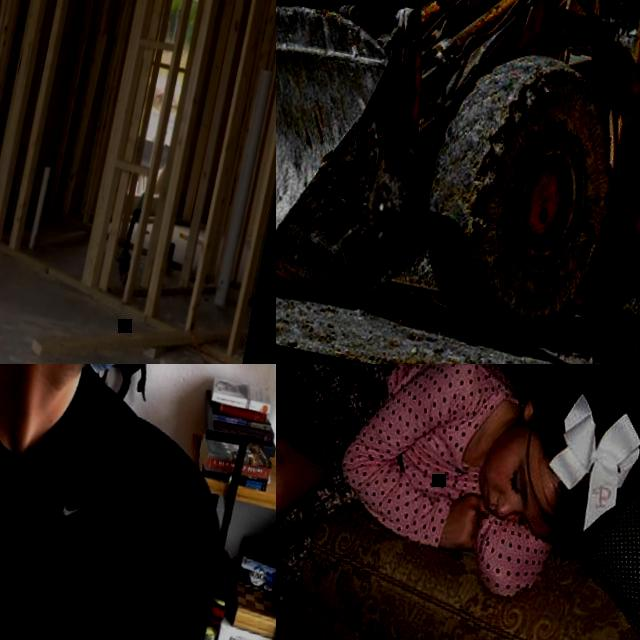machinery: (276, 0, 640, 364)
no_helmet: (511, 364, 640, 552)
no_mask: (472, 444, 512, 514)
no_vest: (0, 364, 145, 640), (371, 364, 507, 508)
person: (276, 364, 640, 624), (0, 364, 269, 640)
